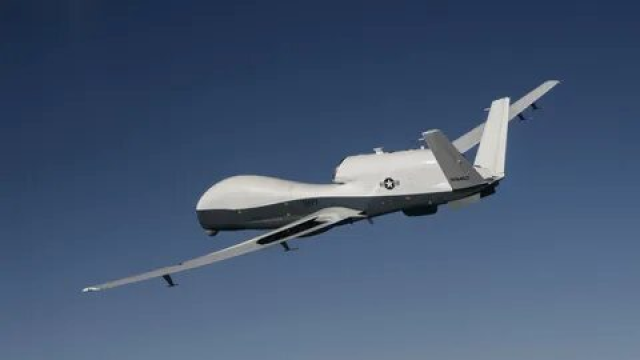military drone: (81, 80, 561, 292)
